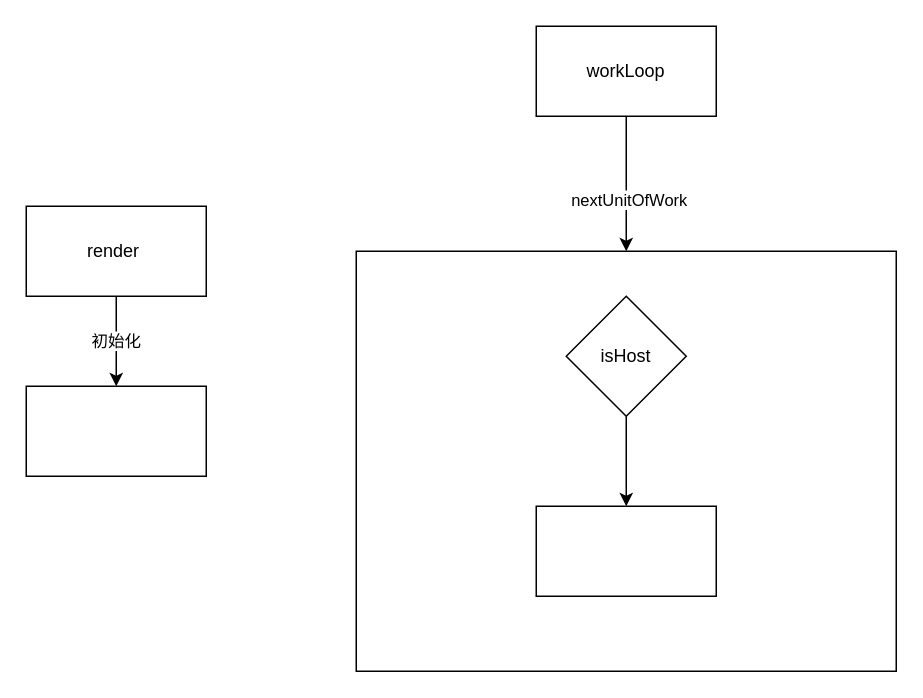
Some shapes in this 923 by 698 pixel diagram are drawn without their labels. The shapes that lost their labels are listed below. From the top down, each one's centre as x and y in pixels, then its label:
At point 115,430: "workInProgress".
At point 625,550: "create".
